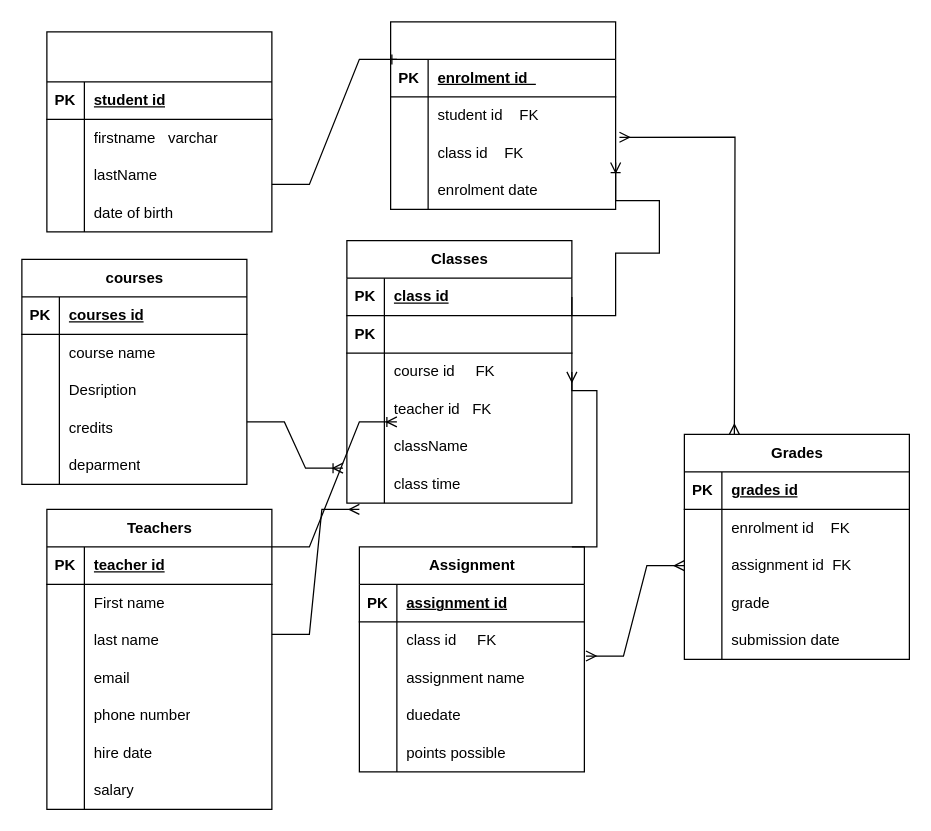
Some shapes in this 931 by 831 pixel diagram are drawn without their labels. Each missing label, with the box of its shape:
Enrollment: (389, 21, 616, 209)
students: (46, 31, 272, 232)
